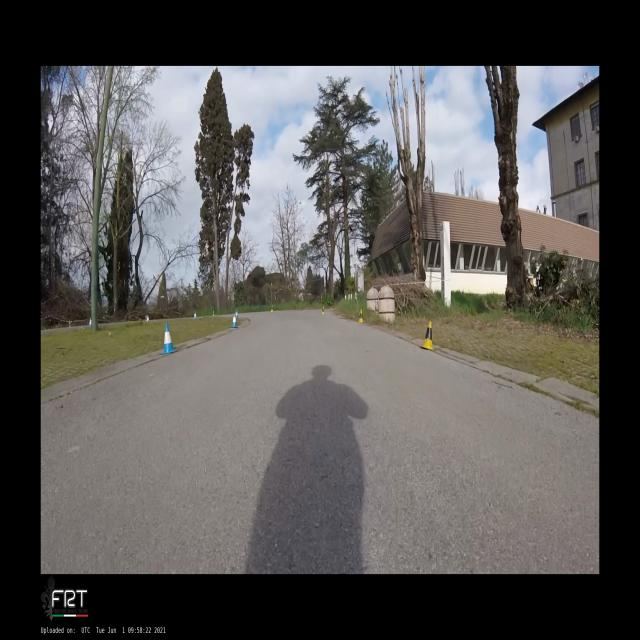blue_cone: (159, 323, 178, 354), (231, 313, 238, 328), (89, 317, 92, 329), (235, 309, 238, 319), (147, 314, 149, 322), (194, 312, 196, 319)
yellow_cone: (420, 322, 436, 350), (358, 309, 364, 323), (321, 306, 325, 315), (212, 310, 215, 316), (271, 305, 273, 312), (145, 315, 147, 321), (69, 322, 71, 327)
